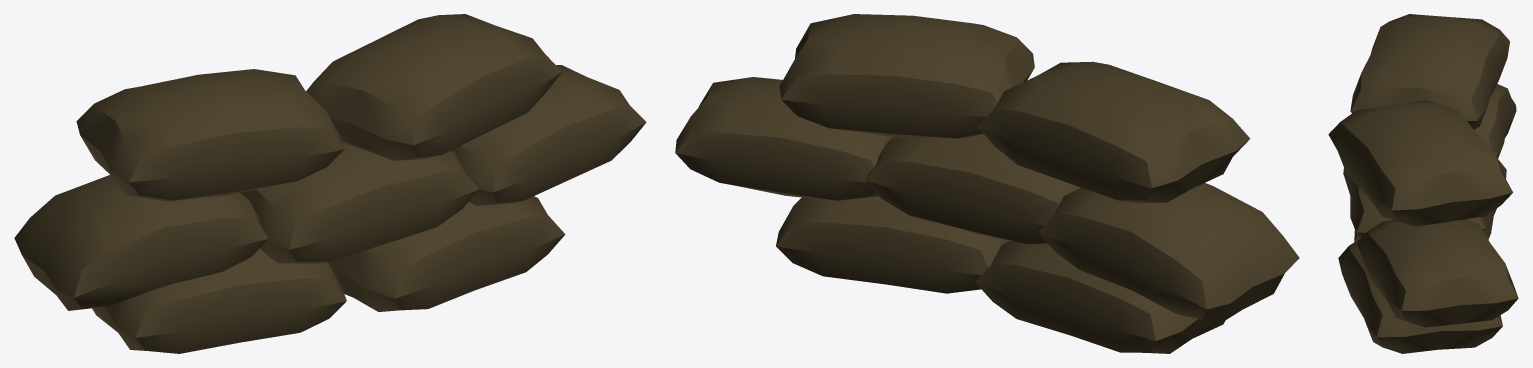
Rendered from SackTrench_Small.obj.
3 renders of one model, left to right at view 1: azimuth 30°, elevation 25°; view 2: azimuth 150°, elevation 25°; view 3: azimuth 270°, elevation 25°, orthographic. The views are drawn at different scales.
Visible parts, largest first — view 1: SackTrench_Small_Cube.026; view 2: SackTrench_Small_Cube.026; view 3: SackTrench_Small_Cube.026.
Boxes of the visible parts, x1=… form: SackTrench_Small_Cube.026: x1=14, y1=14, x2=646, y2=353; SackTrench_Small_Cube.026: x1=675, y1=14, x2=1299, y2=353; SackTrench_Small_Cube.026: x1=1328, y1=14, x2=1518, y2=353.
Size of the model in its own units: 2.34 by 0.9449 by 0.7947.
